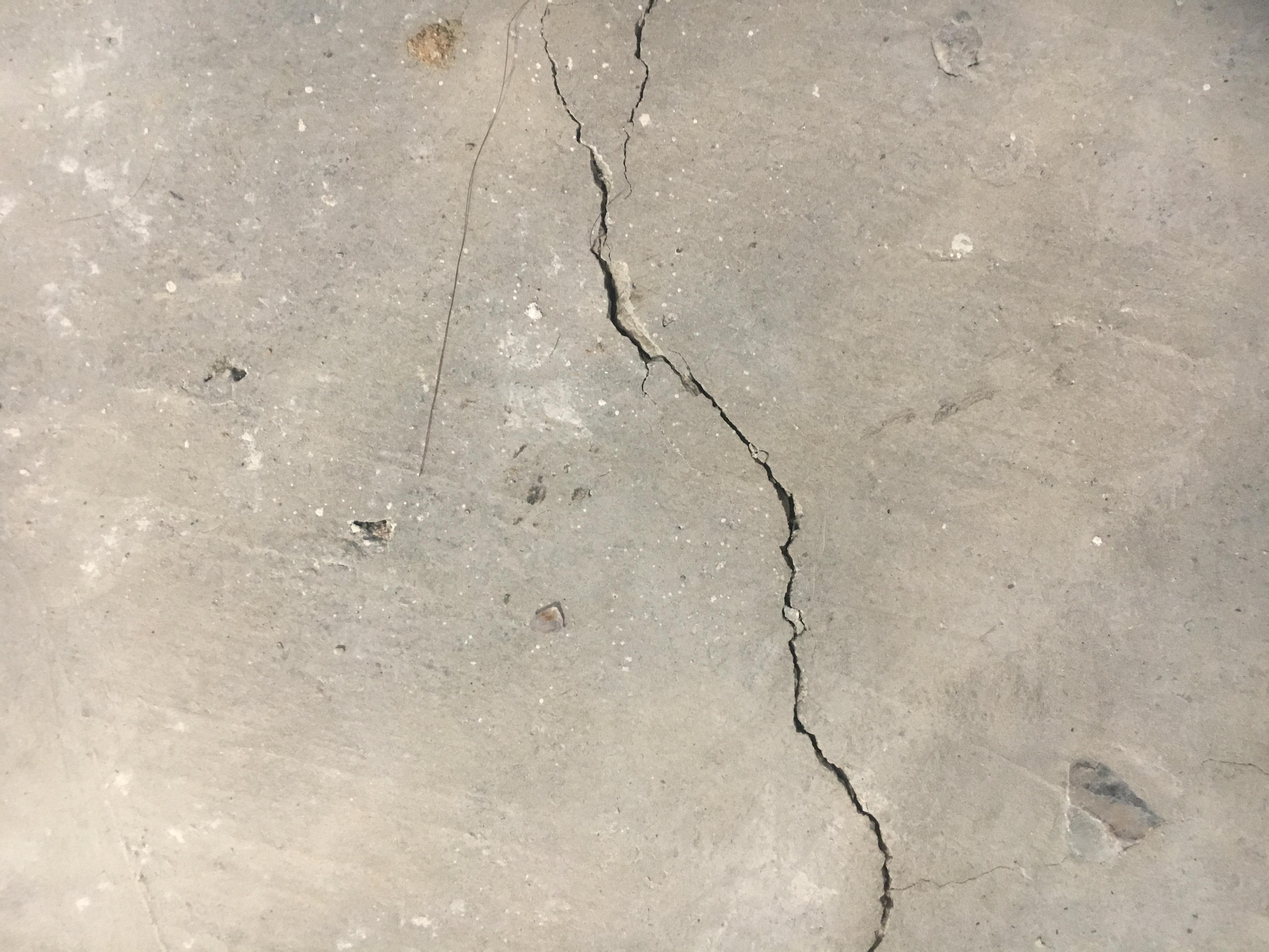Hairline-Crack: (621, 0, 657, 199)
Vertical Crack: (521, 0, 901, 952)
